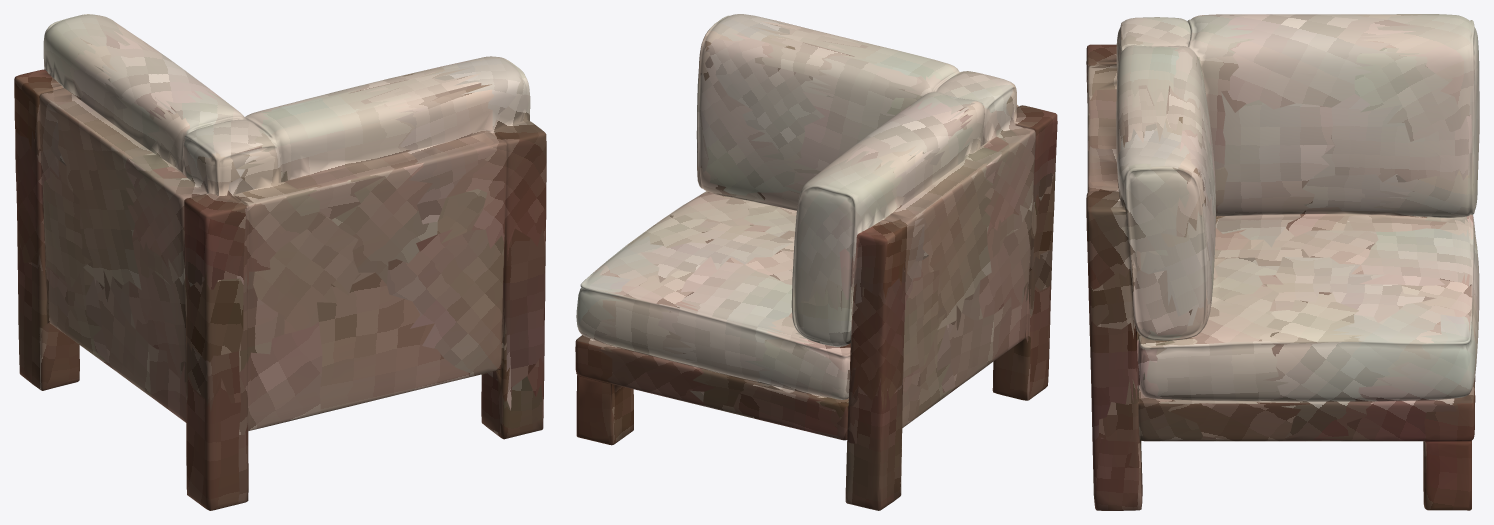
Rendered from KR_사물_s1_prop_sofa_corner.glb.
3 renders of one model, left to right at view 1: azimuth 30°, elevation 25°; view 2: azimuth 150°, elevation 25°; view 3: azimuth 270°, elevation 25°, orthographic. The views are drawn at different scales.
Parts seen in each view (by area): view 1: tripo_node_519c4c93-3239-4951-af97-93e098a8d5ce; view 2: tripo_node_519c4c93-3239-4951-af97-93e098a8d5ce; view 3: tripo_node_519c4c93-3239-4951-af97-93e098a8d5ce.
Boxes of the visible parts, x1,y1,x2,y2 form: tripo_node_519c4c93-3239-4951-af97-93e098a8d5ce: (14,14,546,510); tripo_node_519c4c93-3239-4951-af97-93e098a8d5ce: (575,14,1057,510); tripo_node_519c4c93-3239-4951-af97-93e098a8d5ce: (1086,14,1479,510).
Bounding box in the file's own units: 1 × 0.9539 × 0.9724.
Materials: 1 (1 with a texture image).
